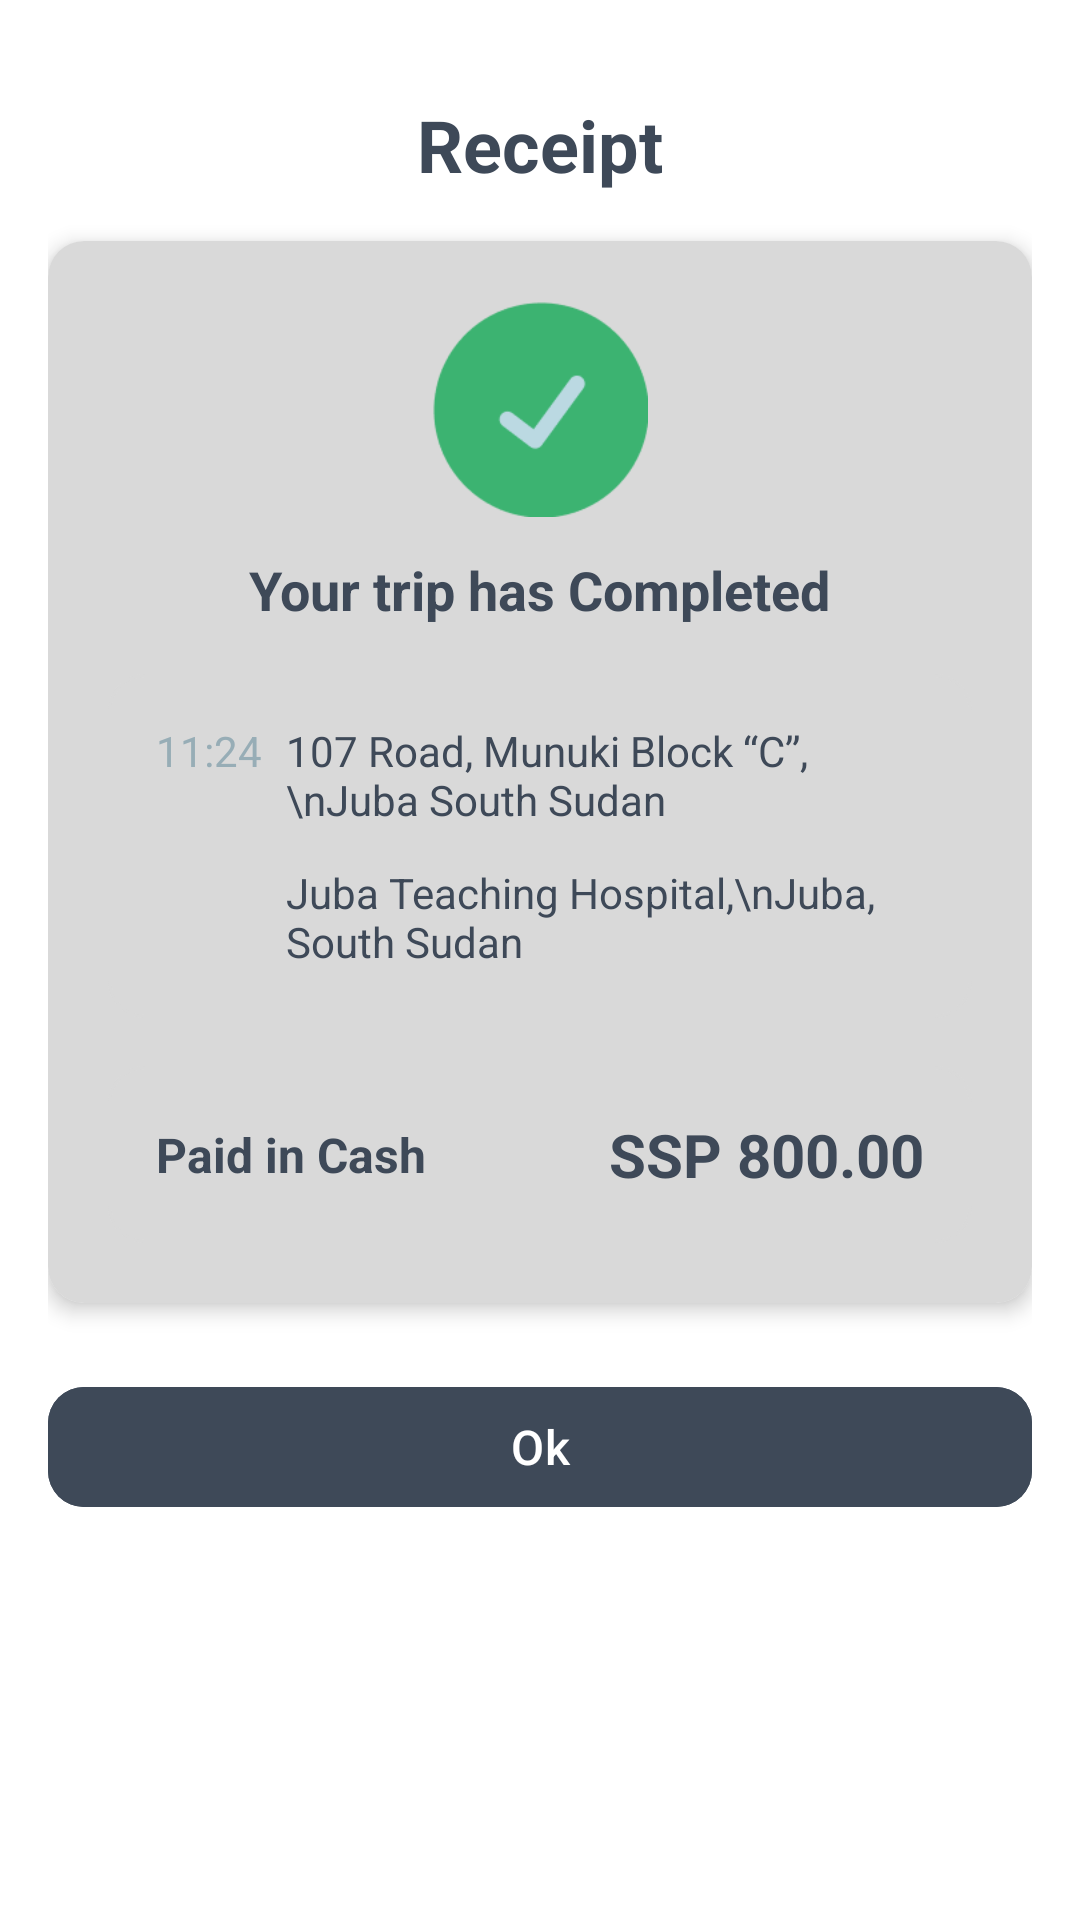

Where to tap for icons on this 1080x1920 app screen, as (x,y):
Success: (540,409)
